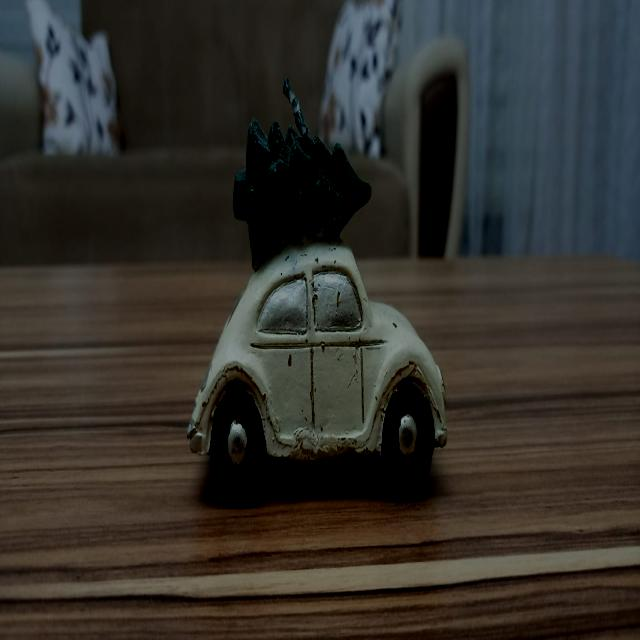car: (178, 240, 451, 497)
